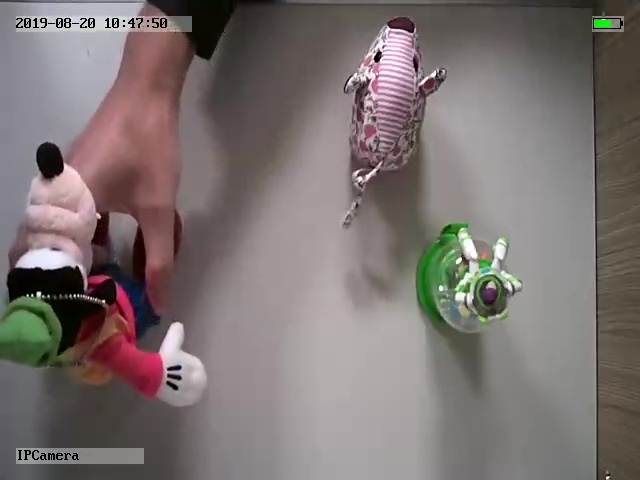buzz: (415, 224, 525, 337)
goofy: (2, 140, 210, 411)
pig: (339, 15, 449, 231)
